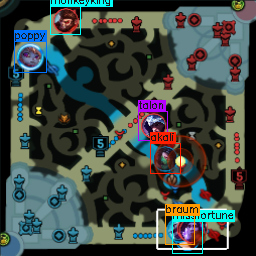akali: (153, 147, 176, 171)
braum: (168, 219, 189, 242)
missfortune: (175, 228, 197, 251)
monkeyking: (52, 6, 78, 33)
poppy: (17, 44, 42, 69)
talon: (140, 111, 164, 138)
taric: (179, 218, 203, 242)
